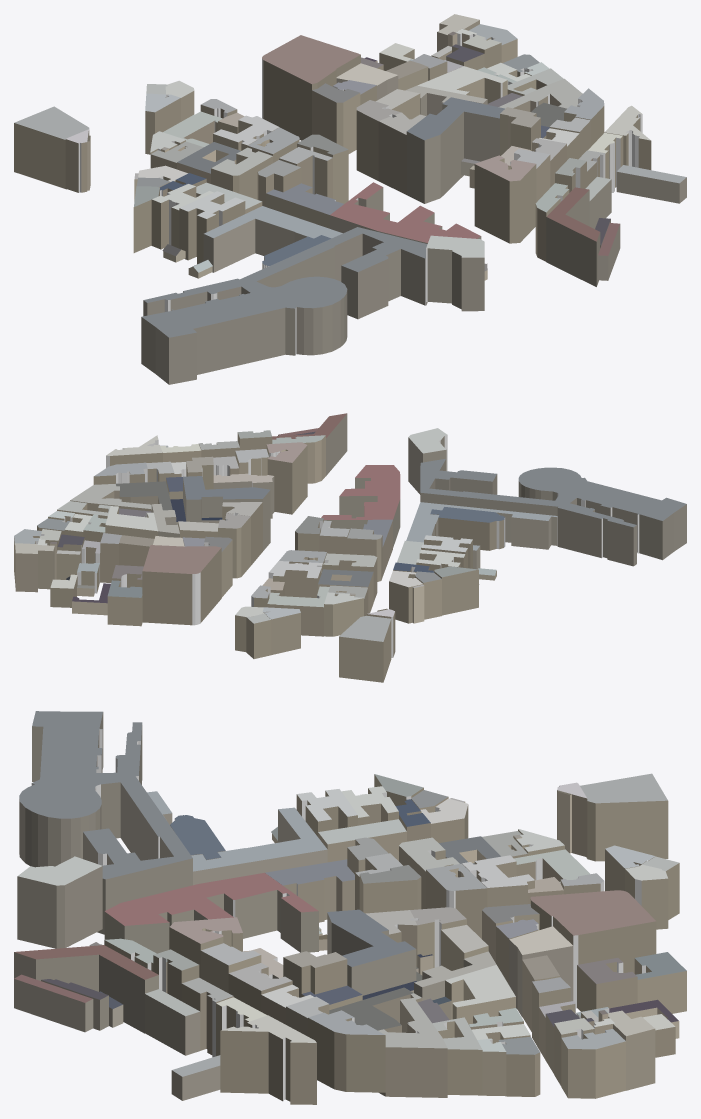
The picture shows the model from 3 angles, top to bottom: view 1: azimuth 30°, elevation 25°; view 2: azimuth 150°, elevation 25°; view 3: azimuth 270°, elevation 25°; orthographic projection. The views are drawn at different scales.
Visible parts, largest first — view 1: tuile; view 2: tuile; view 3: tuile.
Part boxes in pixels (x1=…): tuile: x1=14, y1=14, x2=686, y2=384; tuile: x1=14, y1=413, x2=686, y2=682; tuile: x1=14, y1=711, x2=686, y2=1104.
Bounding box in the file's own units: 317 × 36.79 × 268.
